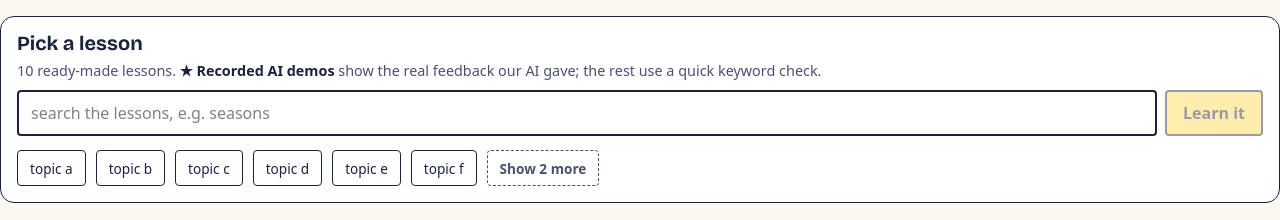
Test: LearnTopicBox chips › shows six chips (reviewed first), the rest behind Show more; live-built ones are marked
Expected: the button "topic a" is shown, [17,150,86,186]
Expected: the button "topic g" is not shown
Click the button "Show 2 more": {"x": 543, "y": 168} [487,150,599,186]
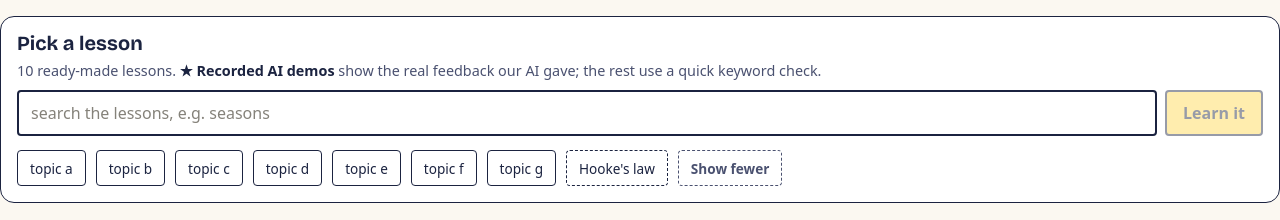
Expected: the button "topic g" is shown, [487,150,556,186]
Expected: the button "Show fewer" is shown, [678,150,782,186]
